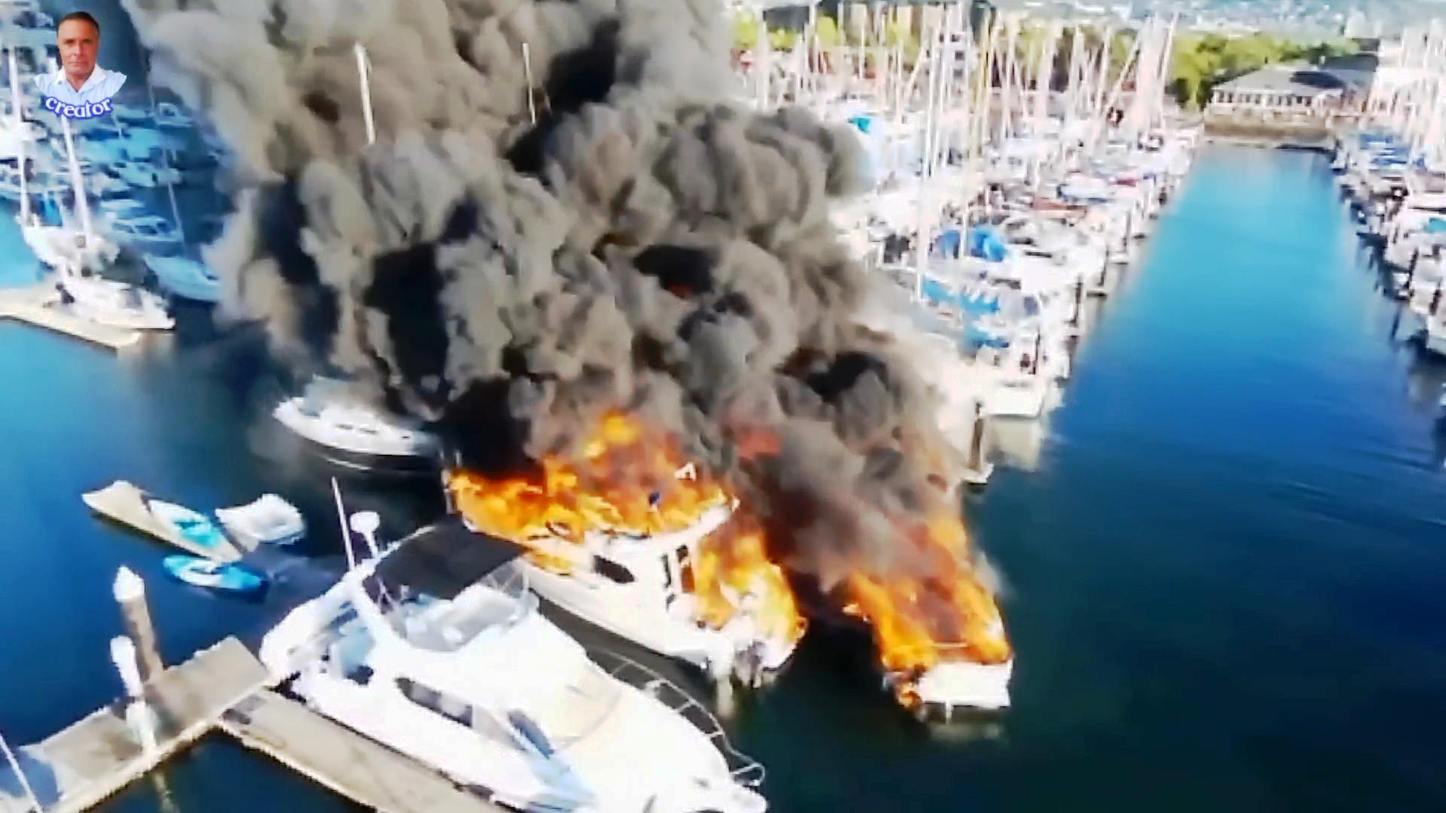fire: (558, 429, 701, 544), (445, 446, 581, 544), (861, 548, 978, 649), (705, 529, 805, 631)
smoke: (305, 100, 573, 368), (569, 76, 853, 327), (752, 365, 929, 497)
